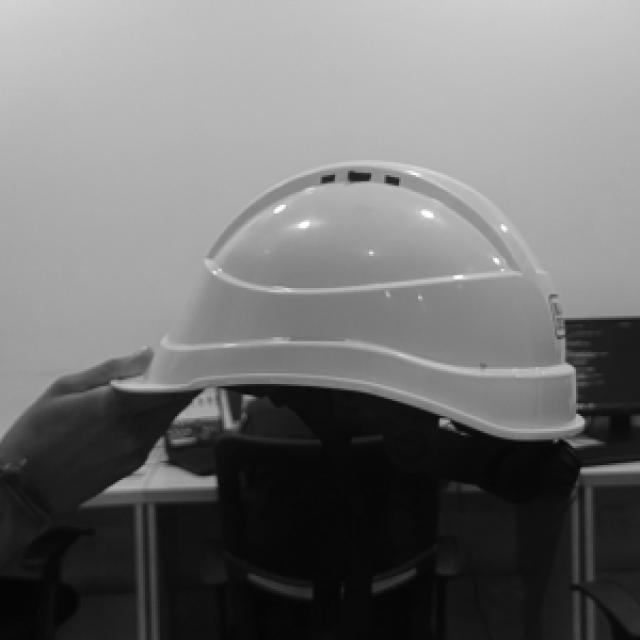safety_helmet: (110, 161, 585, 441)
